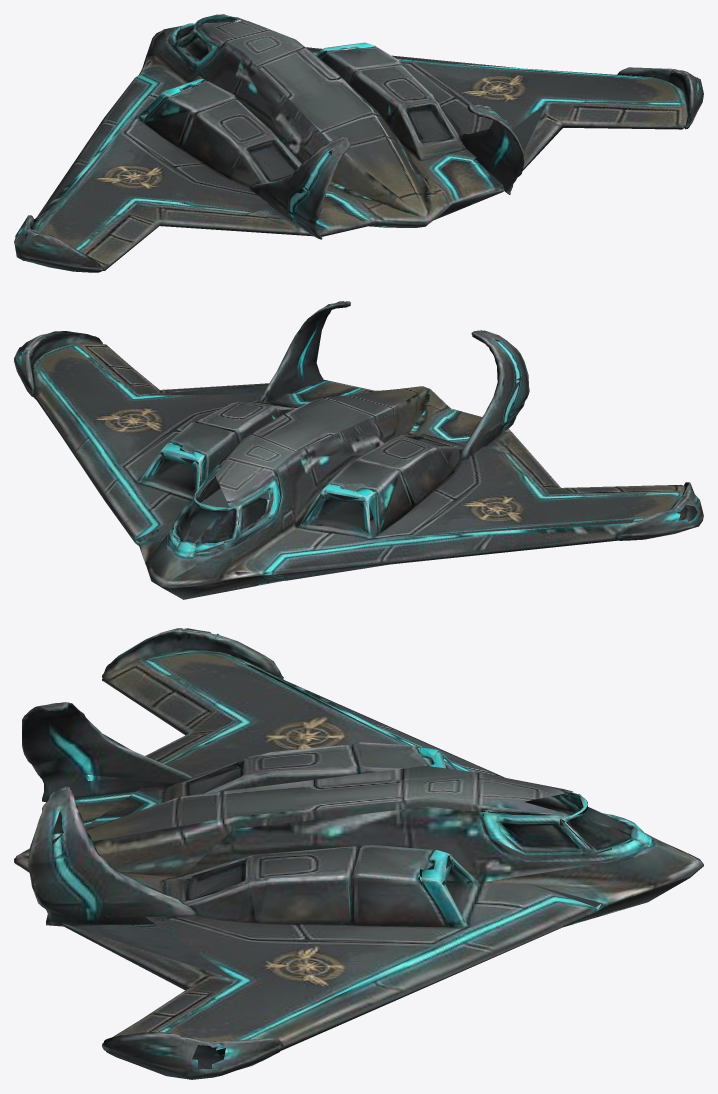
The model's file is siege_tube.glb.
3 views of the same model, one above another, from view 1: azimuth 30°, elevation 25°; view 2: azimuth 150°, elevation 25°; view 3: azimuth 270°, elevation 25° (orthographic). The views are drawn at different scales.
Visible parts, largest first — view 1: Body, Trim; view 2: Body, Trim; view 3: Body, Trim.
Boxes of the visible parts, box(x1,y1,x2,y2) form: Body: box(14, 16, 703, 272); Trim: box(139, 14, 511, 187); Body: box(14, 301, 703, 599); Trim: box(135, 349, 520, 574); Body: box(14, 628, 703, 1079); Trim: box(52, 747, 651, 925).
Size of the model in its own units: 7.5 by 1.26 by 5.06.
2 materials, 2 textured.
